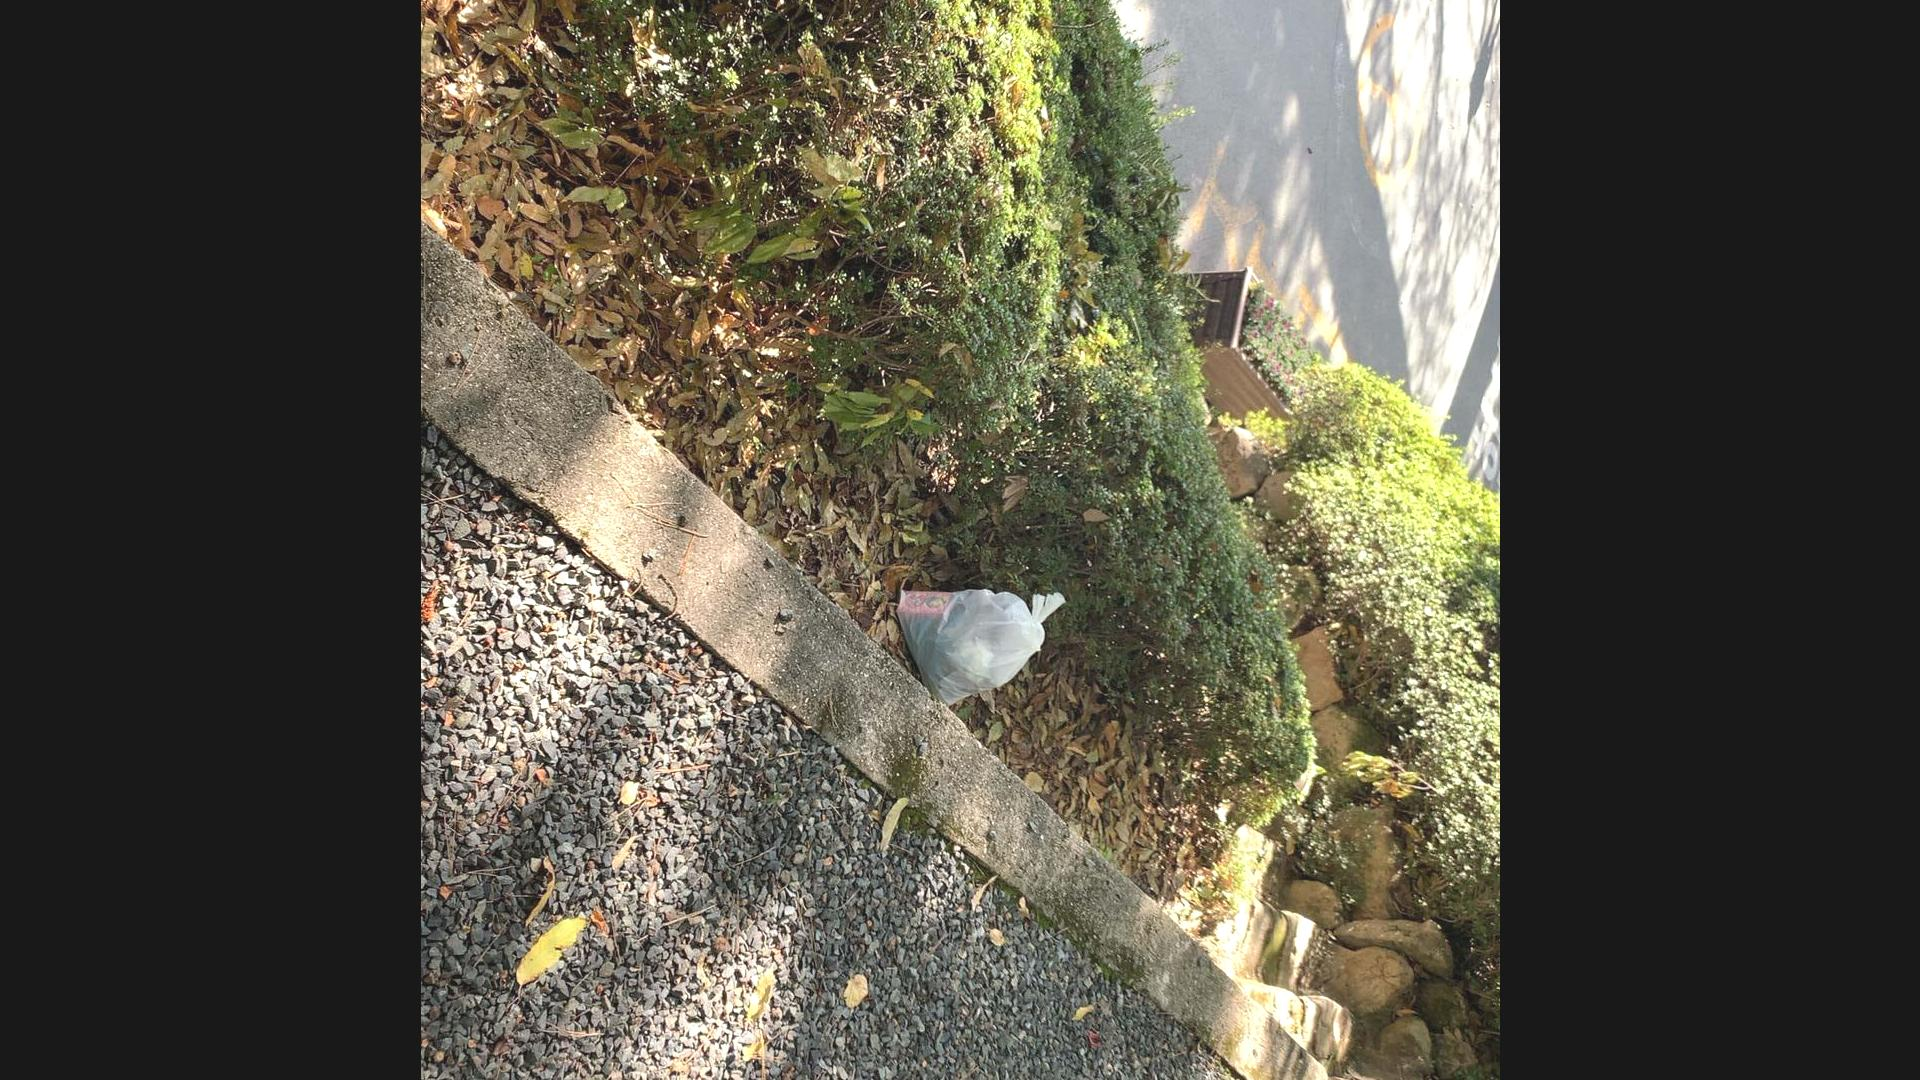white_bag: (895, 574, 1073, 716)
